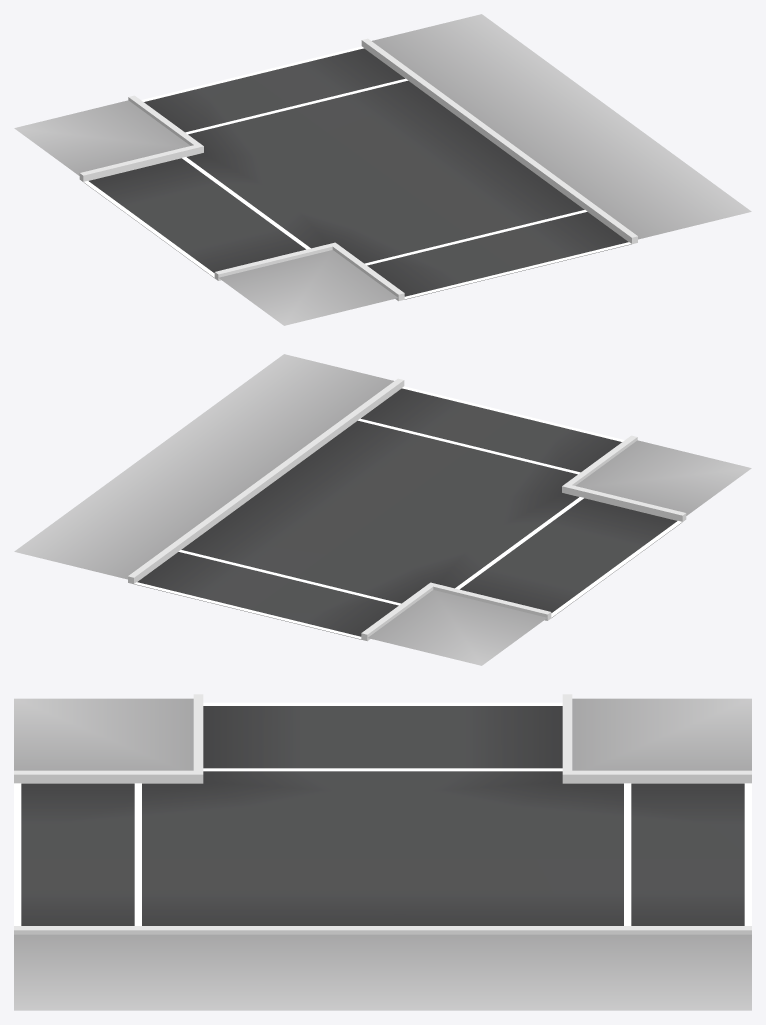
Rendered from city2-road-011.glb.
3 renders of one model, top to bottom at view 1: azimuth 30°, elevation 25°; view 2: azimuth 150°, elevation 25°; view 3: azimuth 270°, elevation 25°, orthographic. The views are drawn at different scales.
Visible parts, largest first — view 1: road_011; view 2: road_011; view 3: road_011.
Boxes of the visible parts, box(x1,y1,x2,y2) form: road_011: box(14, 14, 751, 325); road_011: box(14, 354, 751, 665); road_011: box(14, 694, 751, 1010).
Bounding box in the file's own units: 15 × 0.2 × 15.
Materials: 1 (1 with a texture image).
